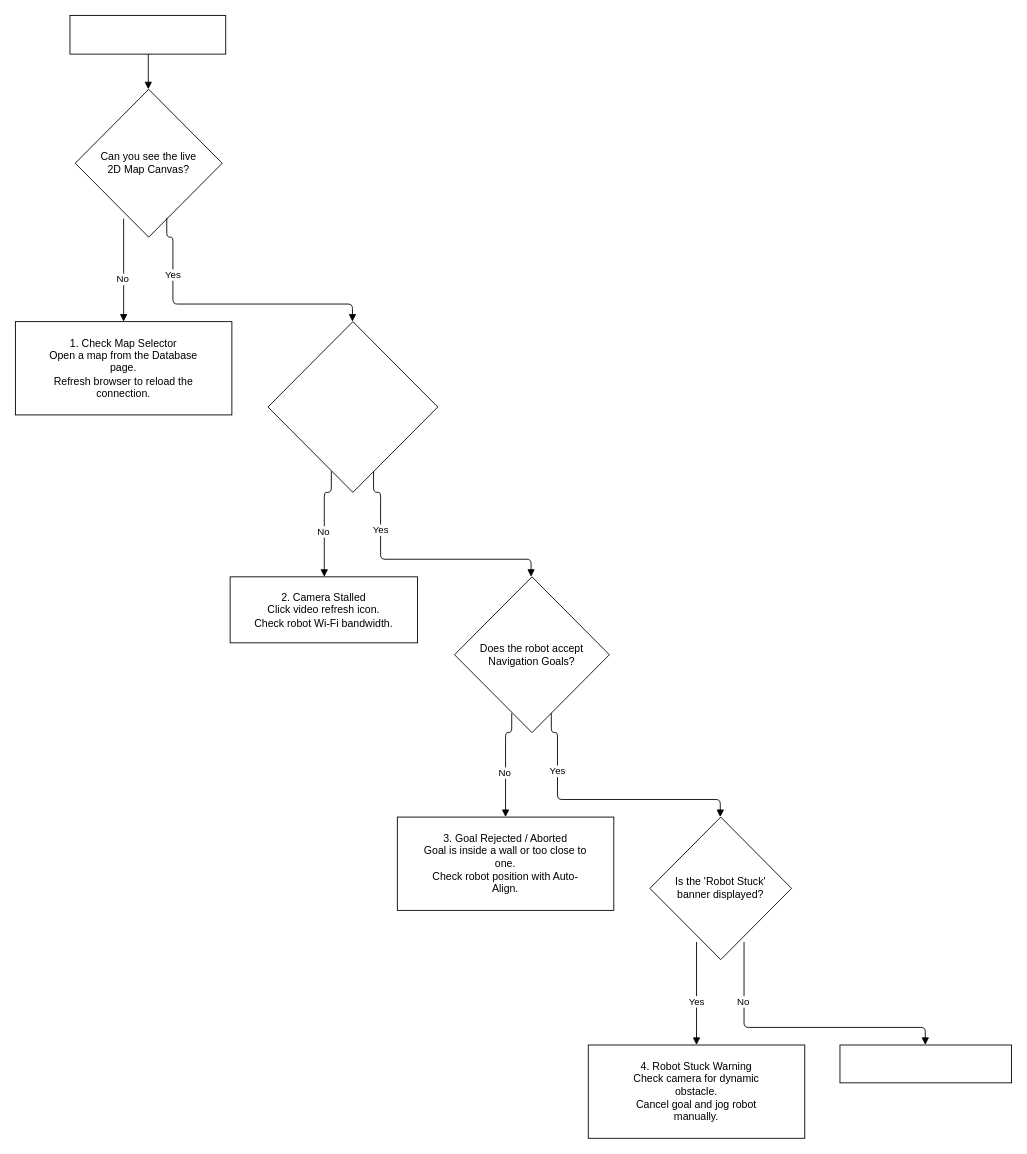
Some shapes in this 1027 by 1154 pixel diagram are drawn without their labels. The shapes that lost their labels are listed below. From the top down, each one's centre as x and y in pixels, then its label:
the point at 147,34: Identify Operator Issue
the point at 352,406: Is the Live Camera Video streaming smoothly?
the point at 925,1063: Robot Operating Normally
